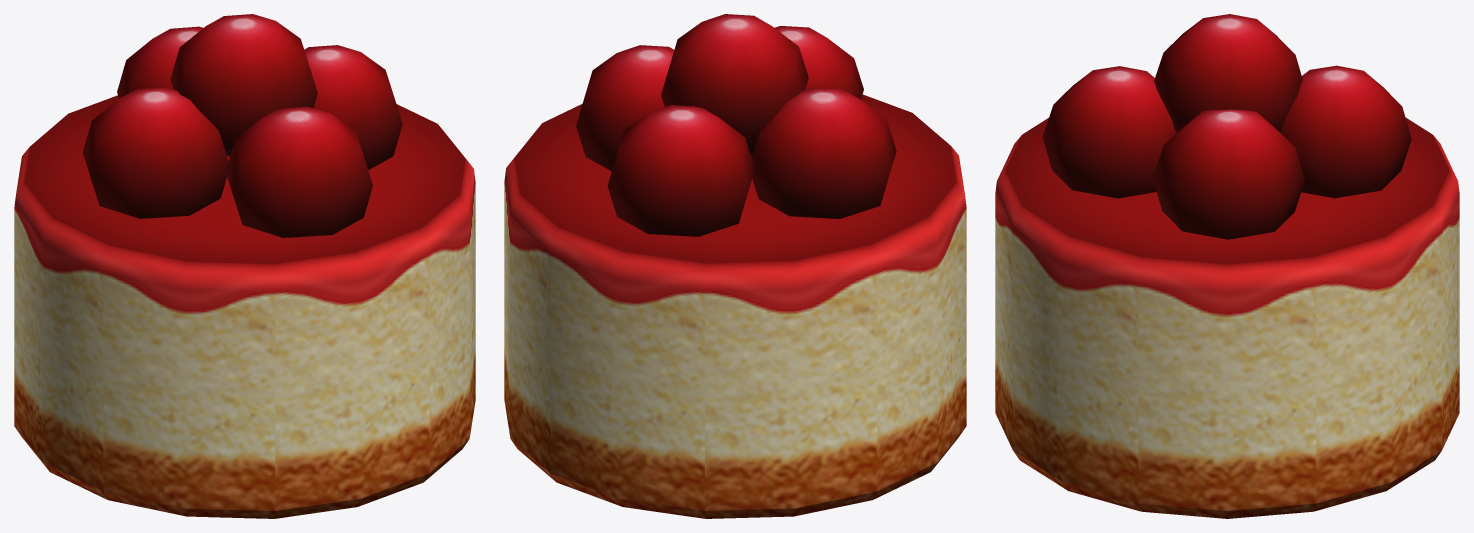
Rendered from 008-Cheesecake_03.FBX.
3 views of the same model, side by side, from view 1: azimuth 30°, elevation 25°; view 2: azimuth 150°, elevation 25°; view 3: azimuth 270°, elevation 25° (orthographic).
Parts seen in each view (by area): view 1: 008-Cheesecake_03; view 2: 008-Cheesecake_03; view 3: 008-Cheesecake_03.
Part boxes in pixels (box(x1,y1,x2,y2)): 008-Cheesecake_03: box(14, 14, 475, 518); 008-Cheesecake_03: box(504, 14, 966, 518); 008-Cheesecake_03: box(995, 14, 1459, 518).
Bounding box in the file's own units: 12.38 × 11.84 × 12.38.
